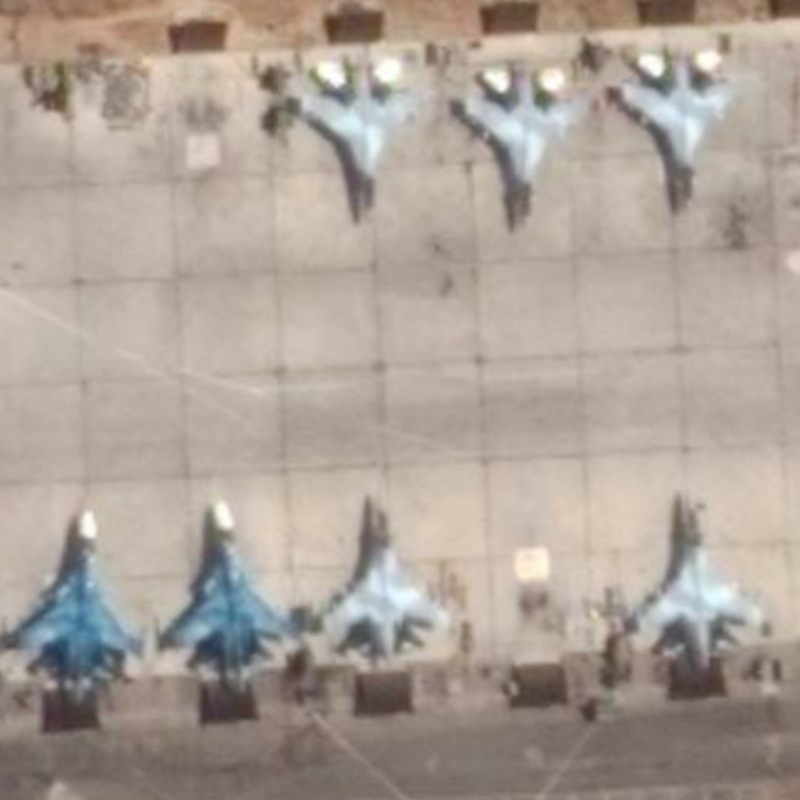A1: (628, 495, 768, 670), (294, 48, 428, 230), (457, 59, 597, 230), (617, 39, 754, 213), (319, 498, 455, 668)
A19: (1, 503, 153, 711), (162, 494, 310, 698)
